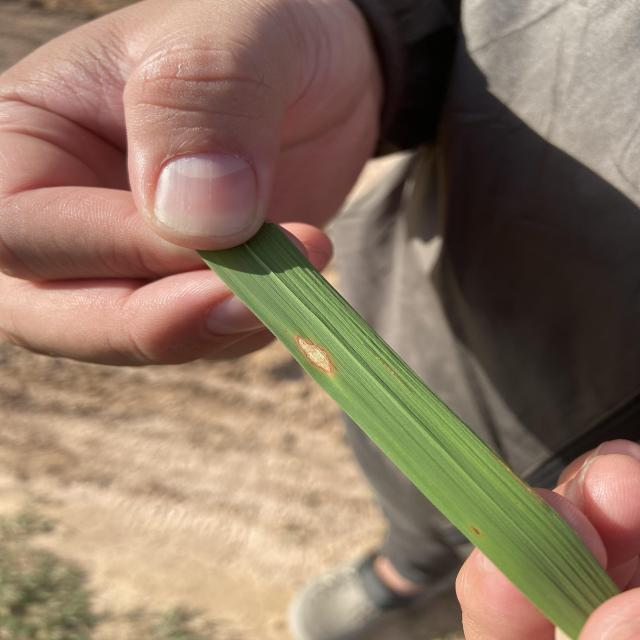Dao on: (295, 335, 334, 374)
